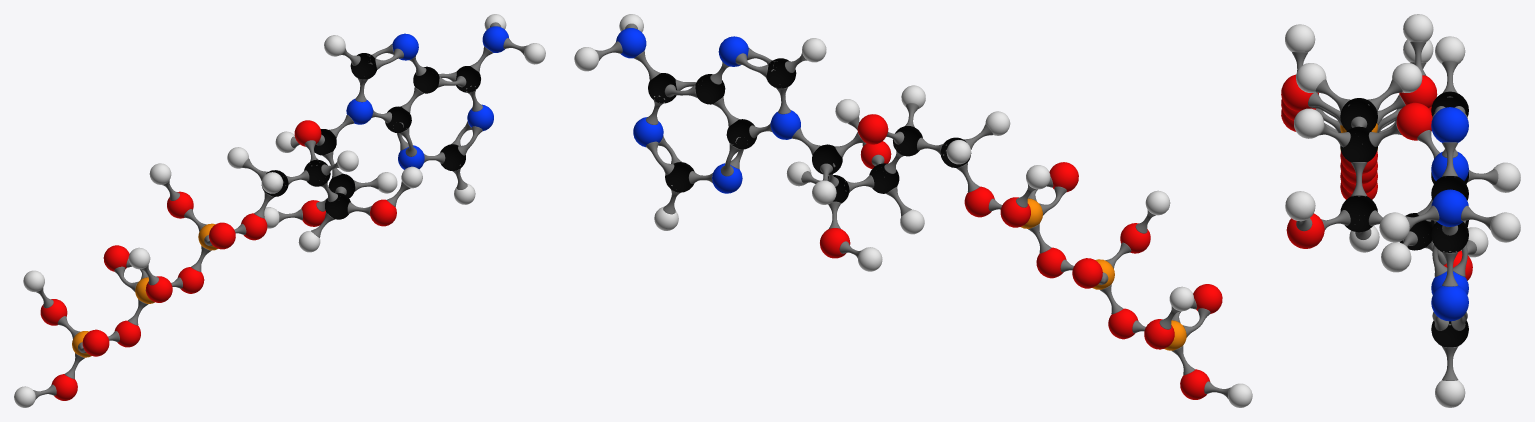
File: Adenosine_molecule.glb
The picture shows the model from 3 angles, left to right: view 1: azimuth 30°, elevation 25°; view 2: azimuth 150°, elevation 25°; view 3: azimuth 270°, elevation 25°; orthographic projection. The views are drawn at different scales.
Parts seen in each view (by area): view 1: Molecule_connector_40; view 2: Molecule_connector_40; view 3: Molecule_connector_40.
Part boxes in pixels (bbox=[...]): Molecule_connector_40: bbox=[14, 14, 545, 407]; Molecule_connector_40: bbox=[574, 14, 1252, 407]; Molecule_connector_40: bbox=[1281, 14, 1520, 407].
Bounding box in the file's own units: 23.14 × 10.87 × 6.32.
Materials: 6 (6 with a texture image).
